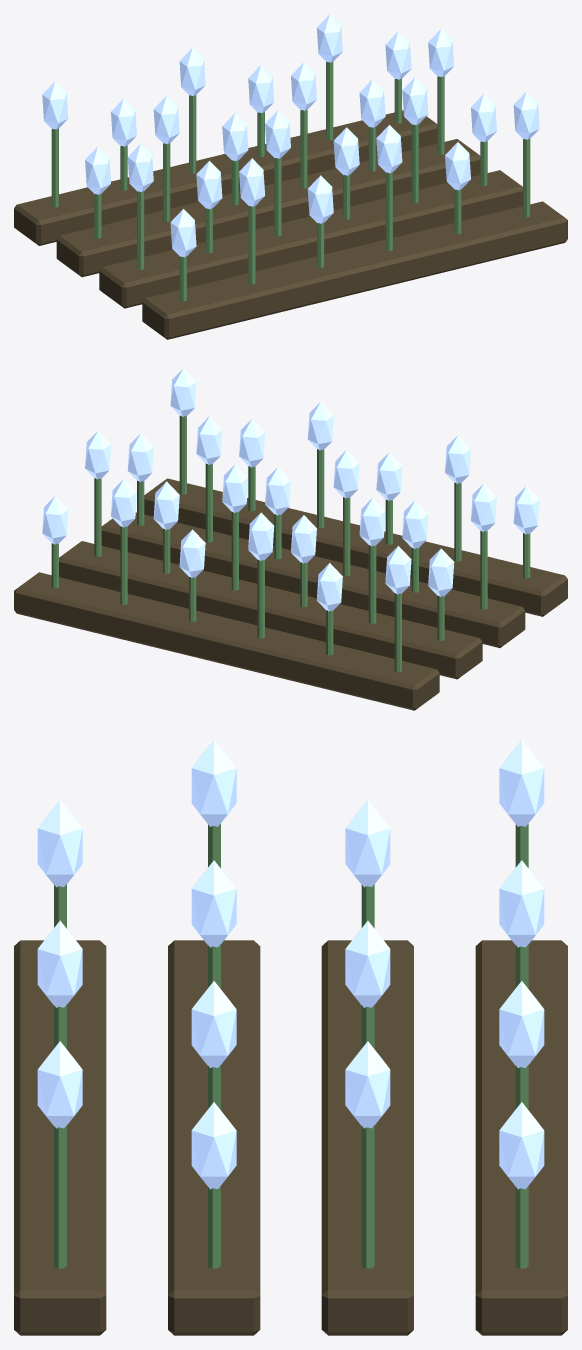
The model's file is gate_field_flax_row.glb.
3 renders of one model, top to bottom at view 1: azimuth 30°, elevation 25°; view 2: azimuth 150°, elevation 25°; view 3: azimuth 270°, elevation 25°, orthographic. The views are drawn at different scales.
Bounding box in the file's own units: 2 × 0.7115 × 1.32.
